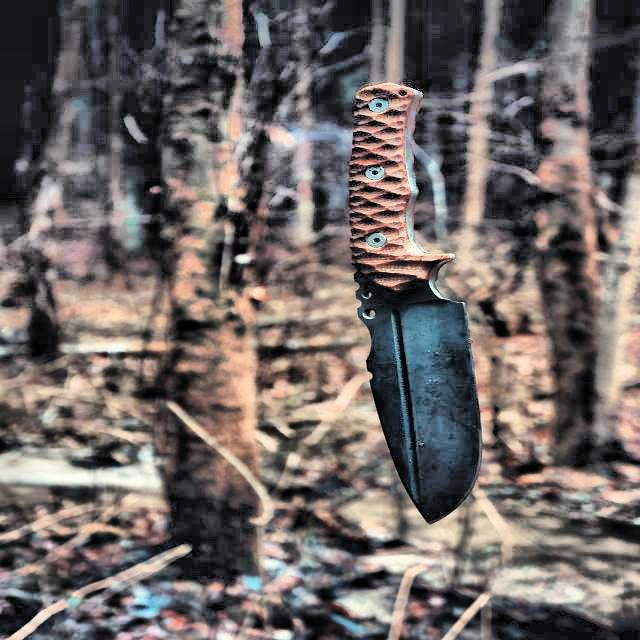knife: (350, 78, 486, 526)
